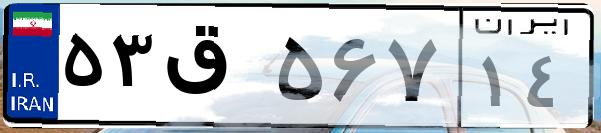1: (475, 38, 525, 113)
3: (110, 28, 158, 98)
4: (525, 38, 570, 115)
5: (270, 28, 330, 110), (57, 26, 110, 100)
6: (330, 28, 385, 110)
7: (385, 28, 445, 110)
ق: (158, 20, 270, 120)
